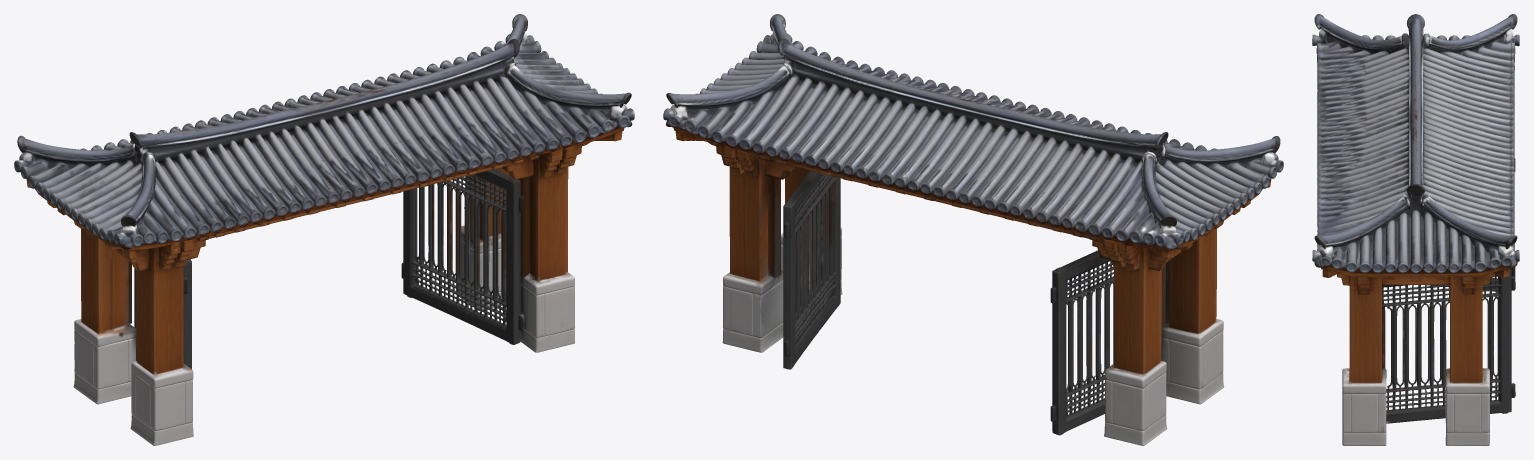
Rendered from seoulgate.glb.
The picture shows the model from 3 angles, left to right: view 1: azimuth 30°, elevation 25°; view 2: azimuth 150°, elevation 25°; view 3: azimuth 270°, elevation 25°; orthographic projection. The views are drawn at different scales.
Visible parts, largest first — view 1: node_0; view 2: node_0; view 3: node_0.
Boxes of the visible parts, x1,y1,x2,y2 form: node_0: (14,14,634,445); node_0: (663,14,1283,445); node_0: (1312,14,1519,445).
Size of the model in its own units: 1.07 by 0.5533 by 0.4093.
Materials: 1 (1 with a texture image).
